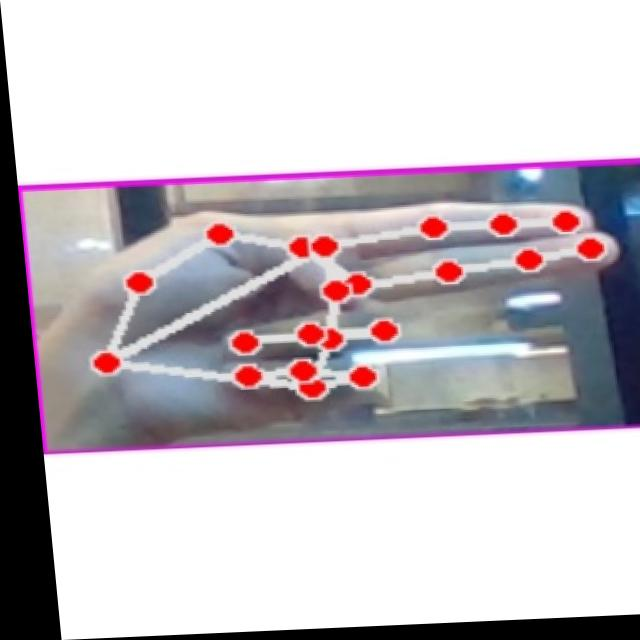H: (47, 182, 635, 443)
